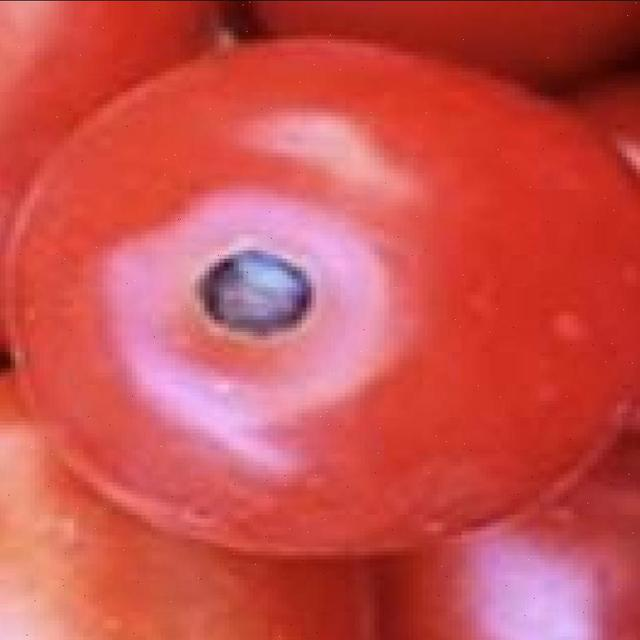Blossom End Rot Fruit: (124, 160, 208, 225)
